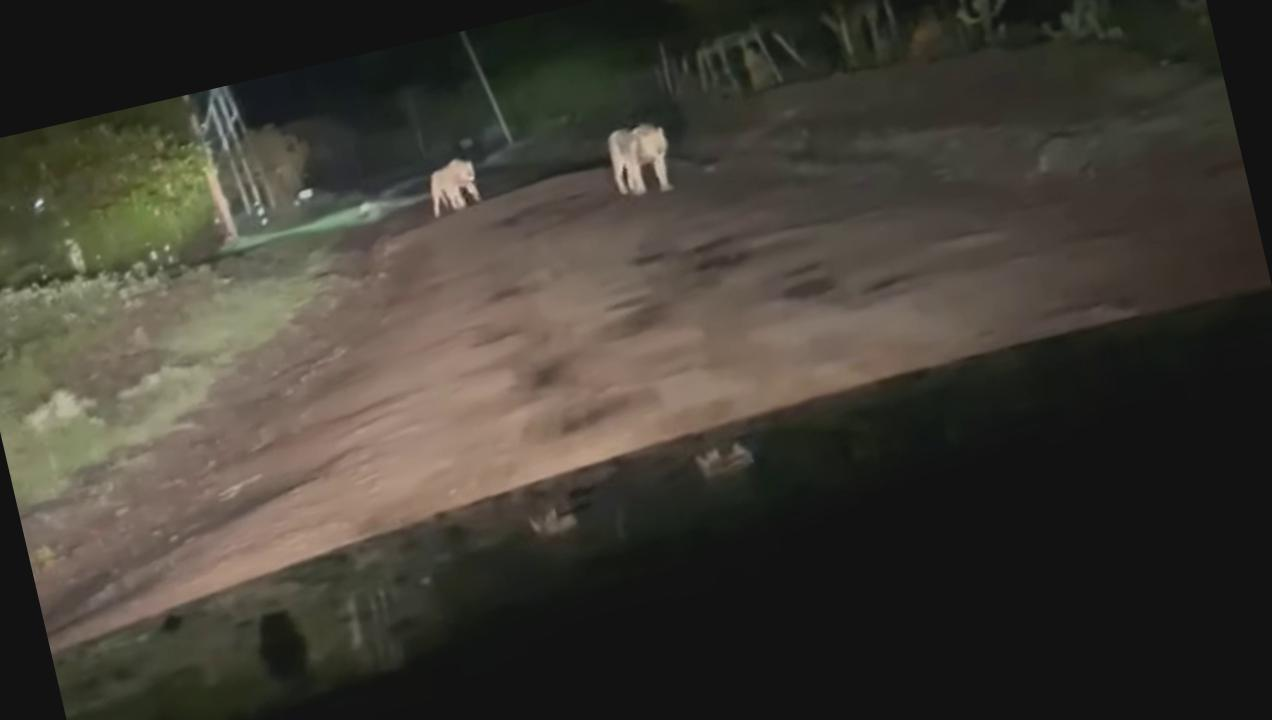lions: (584, 113, 696, 217), (403, 145, 491, 229)
